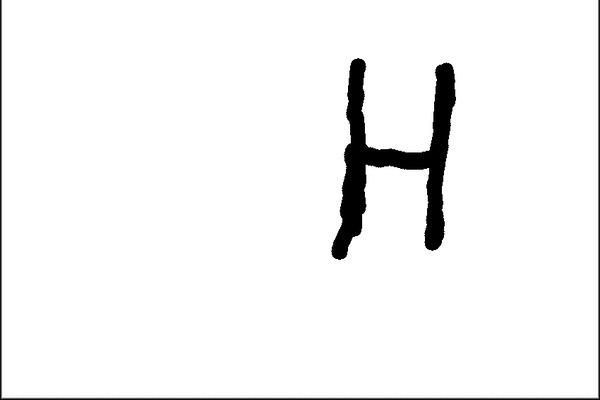H: (330, 50, 462, 262)
